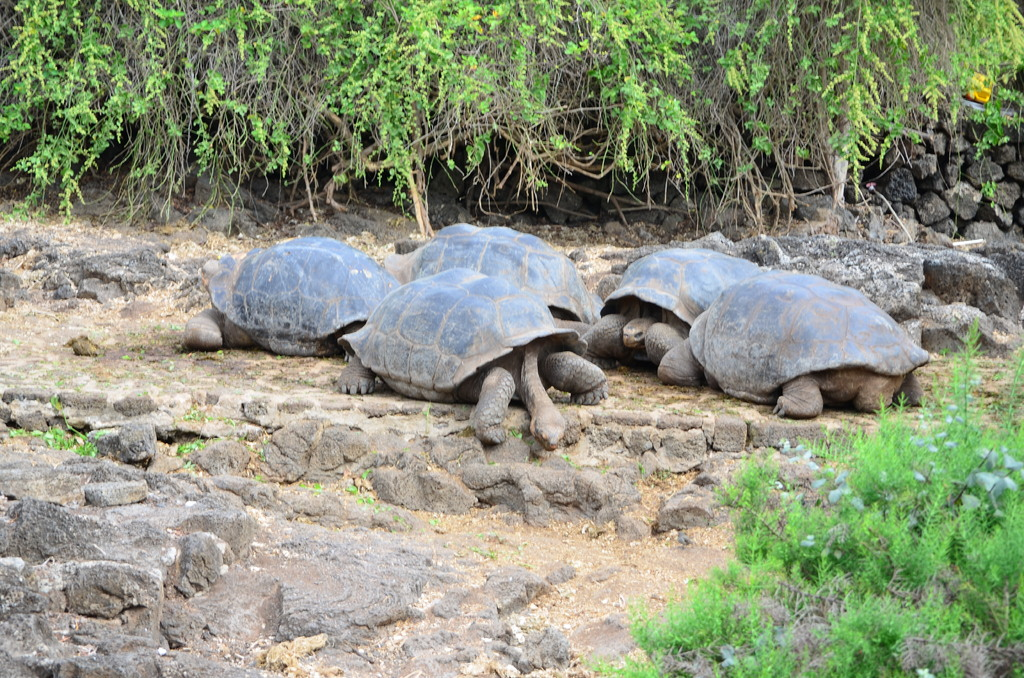Sea turtles: (181, 217, 938, 450)
